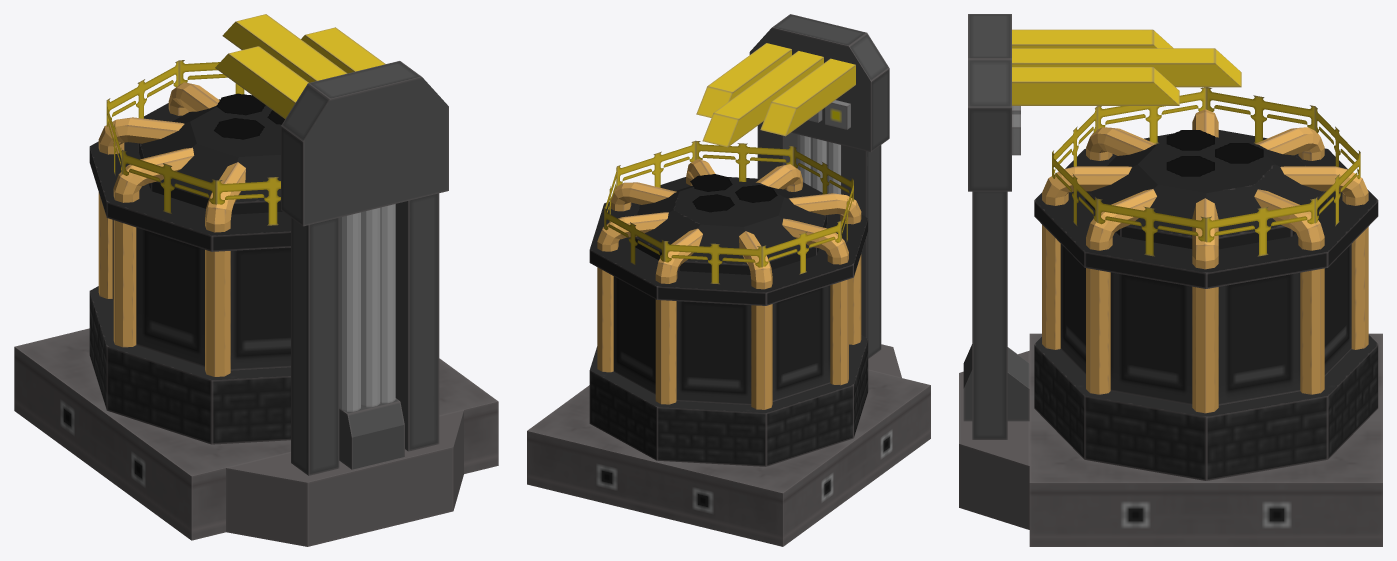
The model's file is electric_arc_furnace.obj.
The picture shows the model from 3 angles, left to right: view 1: azimuth 30°, elevation 25°; view 2: azimuth 150°, elevation 25°; view 3: azimuth 270°, elevation 25°; orthographic projection. The views are drawn at different scales.
Visible parts, largest first — view 1: cube; view 2: cube; view 3: cube.
Part boxes in pixels (x1=…): cube: x1=14, y1=14, x2=498, y2=546; cube: x1=527, y1=14, x2=930, y2=546; cube: x1=959, y1=14, x2=1382, y2=546.
Bounding box in the file's own units: 5 × 6.81 × 6.
